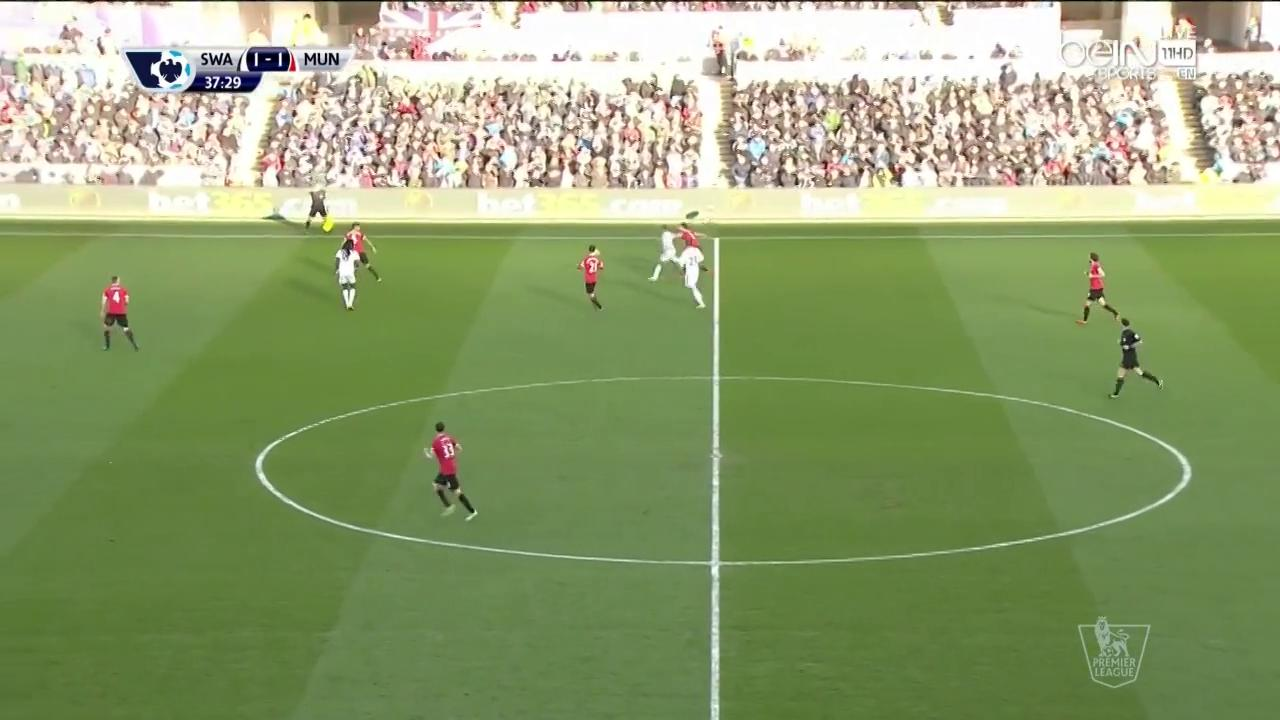football: (594, 248, 600, 255)
